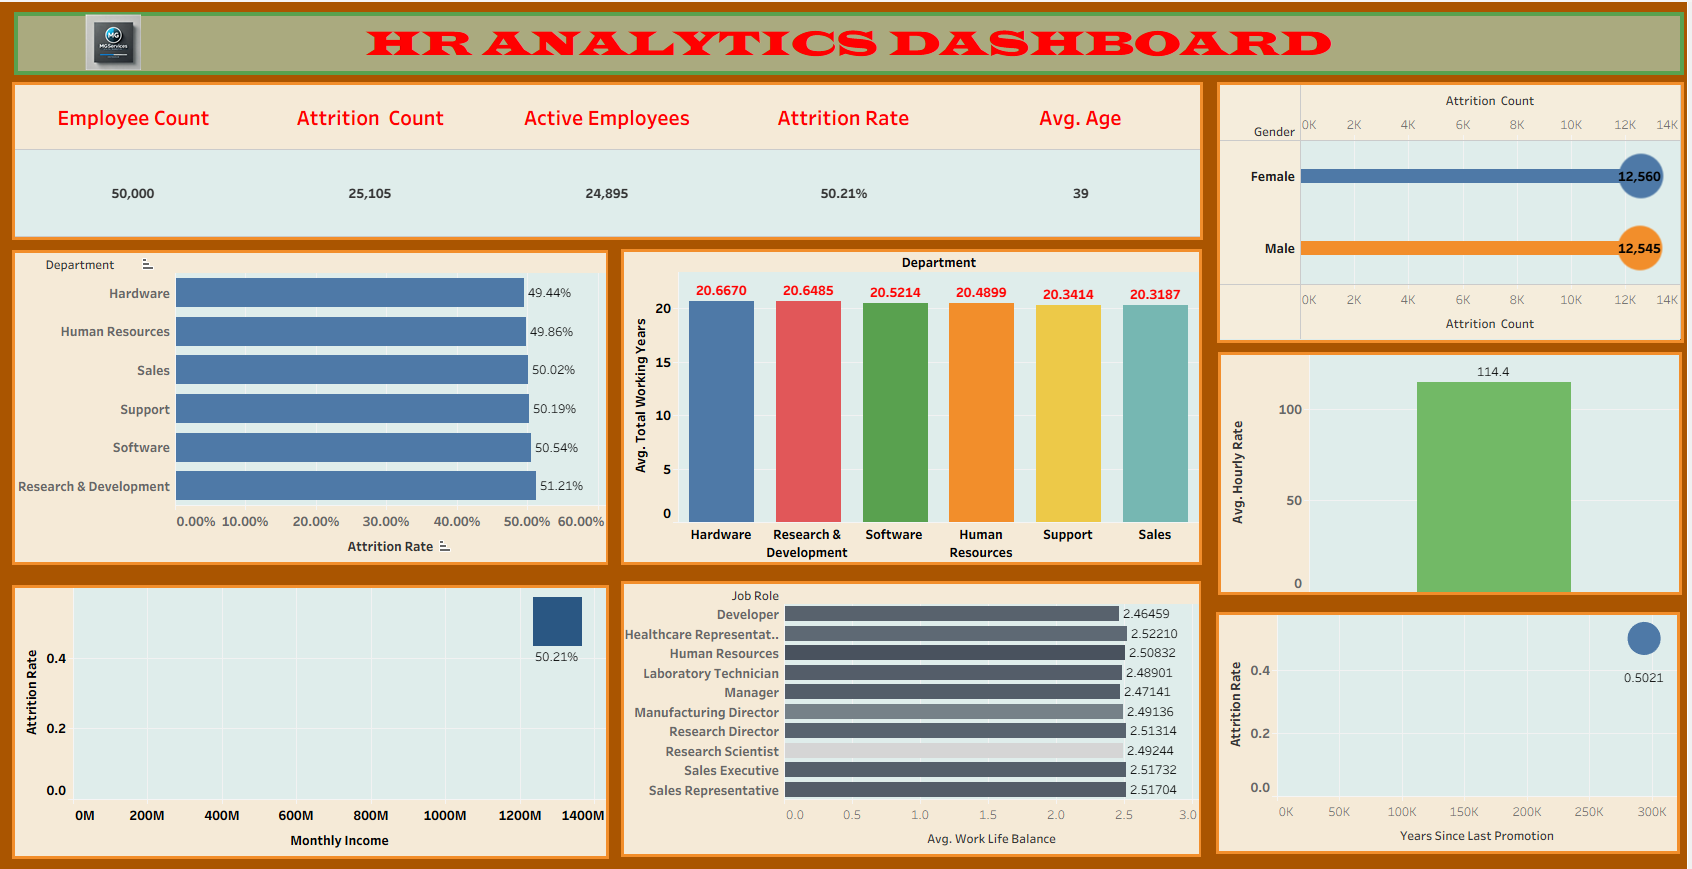

Layout of this report page (visuals, bound fields, positions):
{"tool":"tableau","page":{"name":"HR ANALYTICS DASBOARD","canvas":[1000,1000],"units":"permille","ordinal":0},"visuals":[{"type":"text","box":[11.7,10.4,986.4,65.6]},{"type":"image","param":"Image/Screenshot_17-2-2025_152133_.jpeg","box":[51.5,12.5,37.9,58.3]},{"type":"worksheet","title":"KPI","mark":"Automatic","box":[10.5,83.3,703.7,164.6]},{"type":"worksheet","title":"Attrition by Gender","mark":"Automatic","rows":["Gender"],"cols":["Calculation_1003885647974400","Calculation_1003885647974400"],"box":[722.2,83.3,275.9,271.9]},{"type":"worksheet","title":"Sheet 3","mark":"Bar","rows":["TotalWorkingYears"],"cols":["Department"],"box":[370.4,257.3,343.2,329.2]},{"type":"worksheet","title":"Sheet 6","mark":"Automatic","rows":["Department"],"cols":["Calculation_1003885648629761"],"box":[10.5,258.3,352.5,328.1]},{"type":"worksheet","title":"Sheet 4","mark":"Bar","rows":["HourlyRate"],"box":[722.8,364.6,274.1,253.1]},{"type":"worksheet","title":"Sheet 7","mark":"Automatic","rows":["JobRole"],"cols":["WorkLifeBalance"],"box":[370.2,603.1,343,287.5]},{"type":"worksheet","title":"Sheet 5","mark":"Square","rows":["Calculation_1003885648629761"],"cols":["MonthlyIncome"],"box":[10.4,607.3,352.8,285.4]},{"type":"worksheet","title":"Sheet 8","mark":"Line","rows":["Calculation_1003885648629761"],"cols":["YearsSinceLastPromotion"],"box":[721.5,635.4,274.2,252.1]}]}

Visuals, with their boxes on the dashboard's canvas, which has no fixed pixel size, in thousandths of its width and height (x1, y1, x2, y2). These are canvas units, not pixel positions in the 1692x869 screenshot, which may show the page scaled, cropped or inside an application window:
text: (x1=12, y1=10, x2=998, y2=76)
image: (x1=52, y1=12, x2=89, y2=71)
"KPI" worksheet: (x1=10, y1=83, x2=714, y2=248)
"Attrition by Gender" worksheet: (x1=722, y1=83, x2=998, y2=355)
"Sheet 3" worksheet (Bar marks): (x1=370, y1=257, x2=714, y2=586)
"Sheet 6" worksheet: (x1=10, y1=258, x2=363, y2=586)
"Sheet 4" worksheet (Bar marks): (x1=723, y1=365, x2=997, y2=618)
"Sheet 7" worksheet: (x1=370, y1=603, x2=713, y2=891)
"Sheet 5" worksheet (Square marks): (x1=10, y1=607, x2=363, y2=893)
"Sheet 8" worksheet (Line marks): (x1=722, y1=635, x2=996, y2=888)
